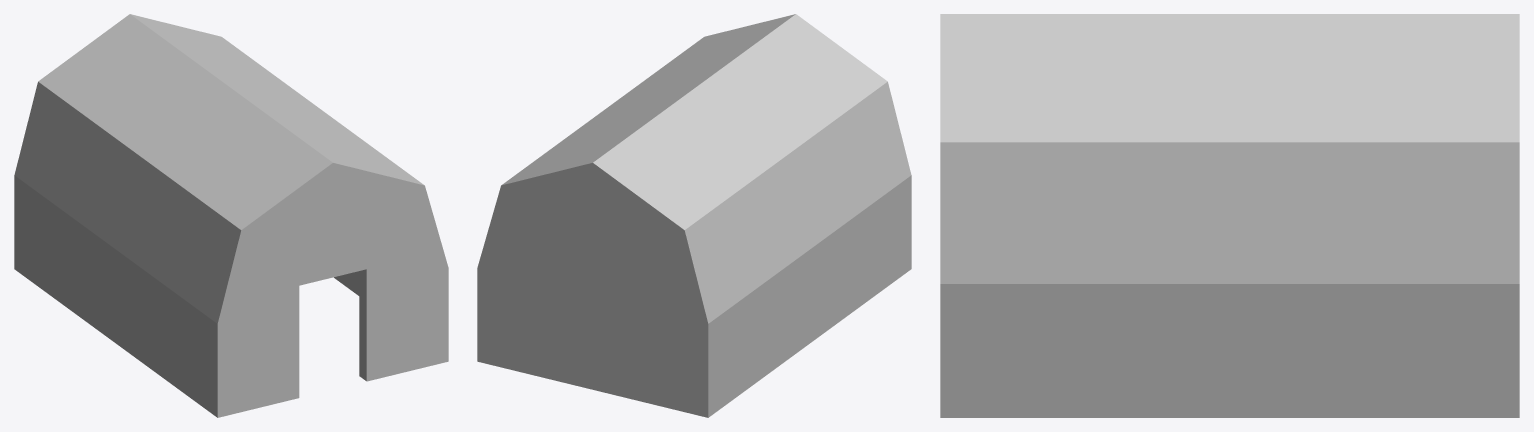
File: Greenhouse.fbx
3 views of the same model, side by side, from view 1: azimuth 30°, elevation 25°; view 2: azimuth 150°, elevation 25°; view 3: azimuth 270°, elevation 25° (orthographic). The views are drawn at different scales.
Parts seen in each view (by area): view 1: Greenhouse; view 2: Greenhouse; view 3: Greenhouse.
Part boxes in pixels (<box>): Greenhouse: <box>14,14,448,417</box>; Greenhouse: <box>477,14,911,417</box>; Greenhouse: <box>940,14,1519,417</box>.
Size of the model in its own units: 117 by 178 by 110.
